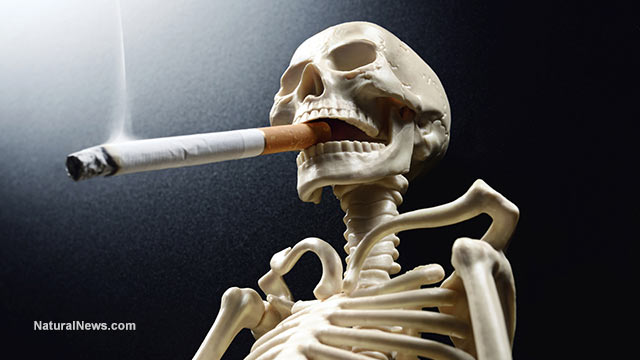cigarette: (57, 104, 343, 186)
